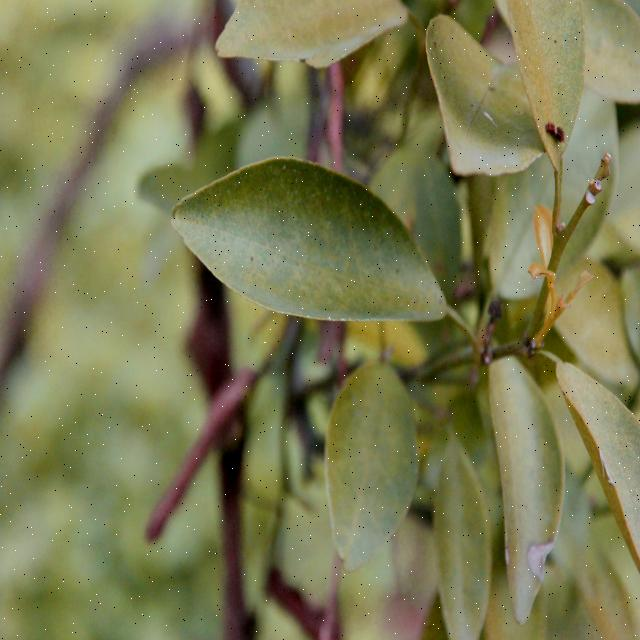blackspot: (202, 170, 425, 312)
